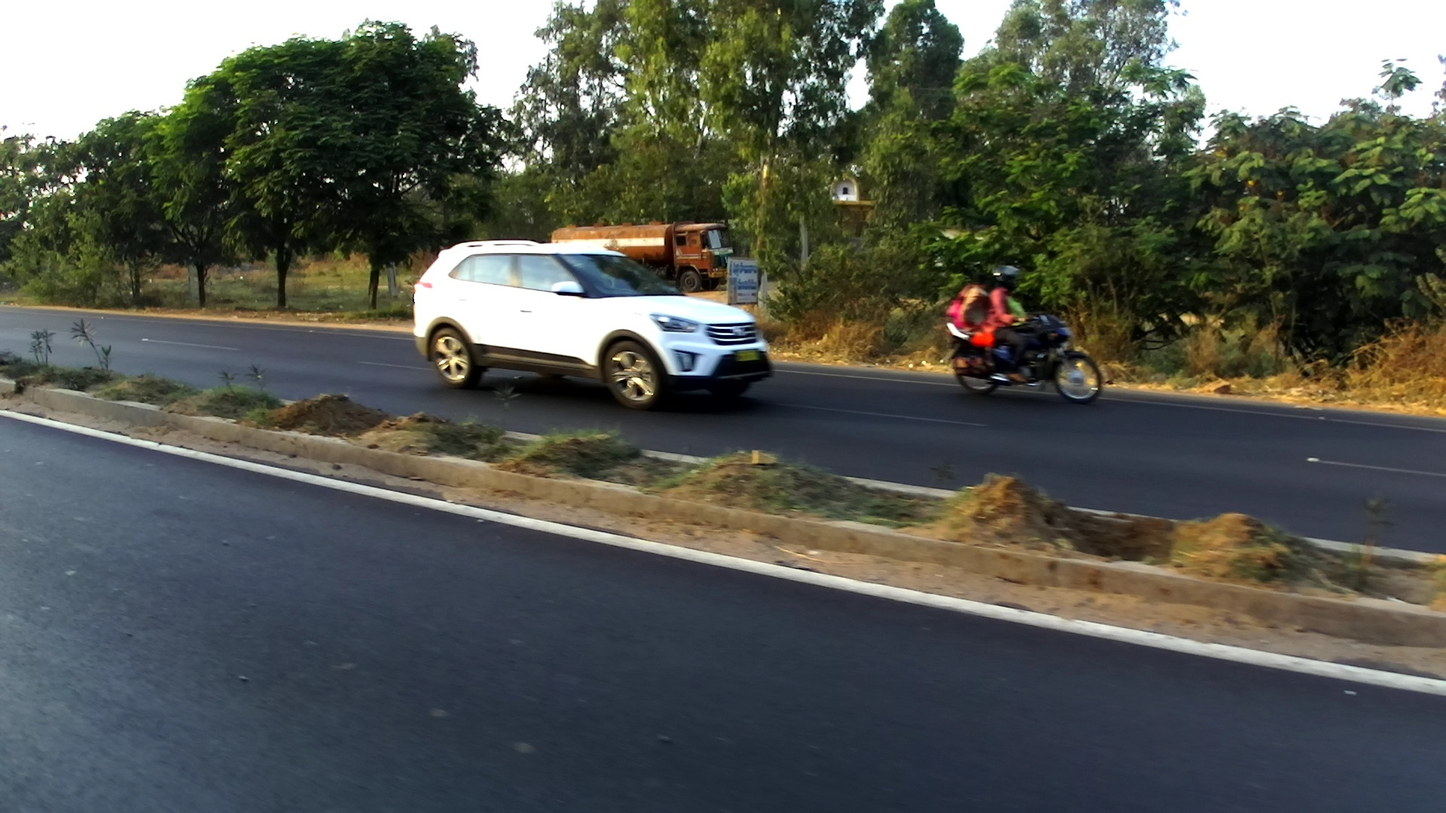car: (414, 237, 773, 412)
motorcycle: (945, 307, 1103, 403)
rider: (980, 265, 1031, 382), (947, 275, 997, 343)
truck: (551, 219, 731, 290)
